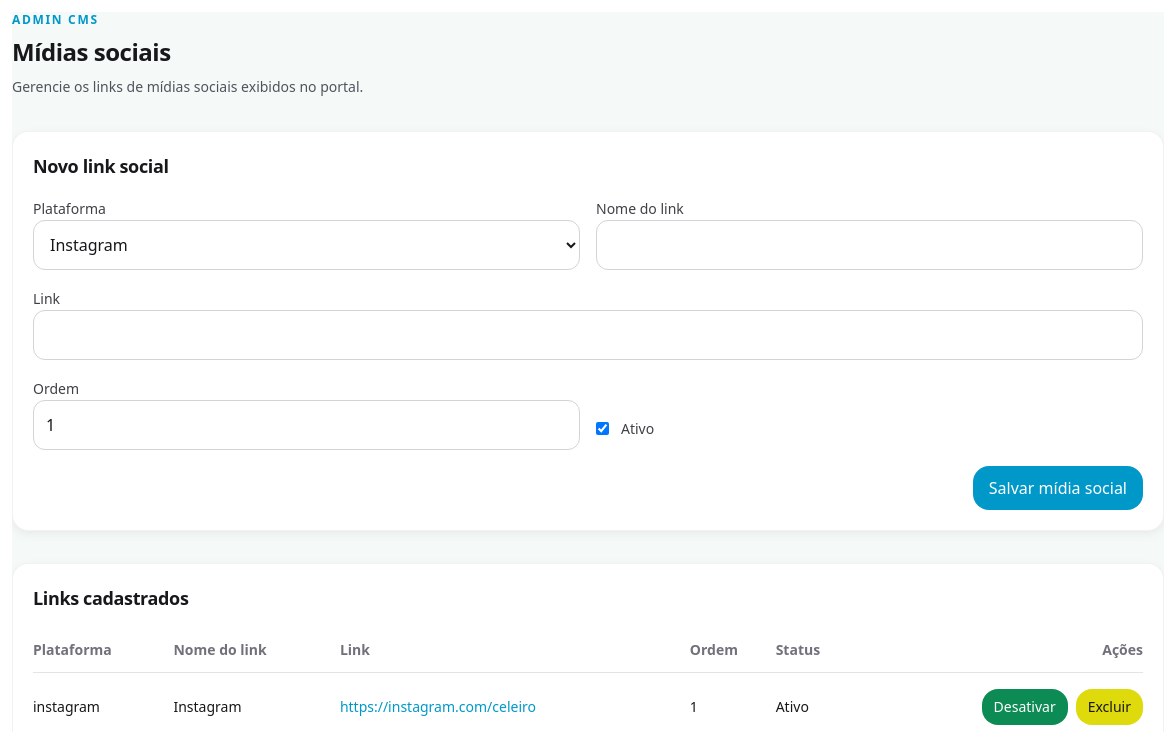
it: AdminSocialLinksPage › deve excluir item com sucesso
The image size is (1164, 732).
Click the button "Excluir" at (1109, 707), box [1076,689,1143,725]
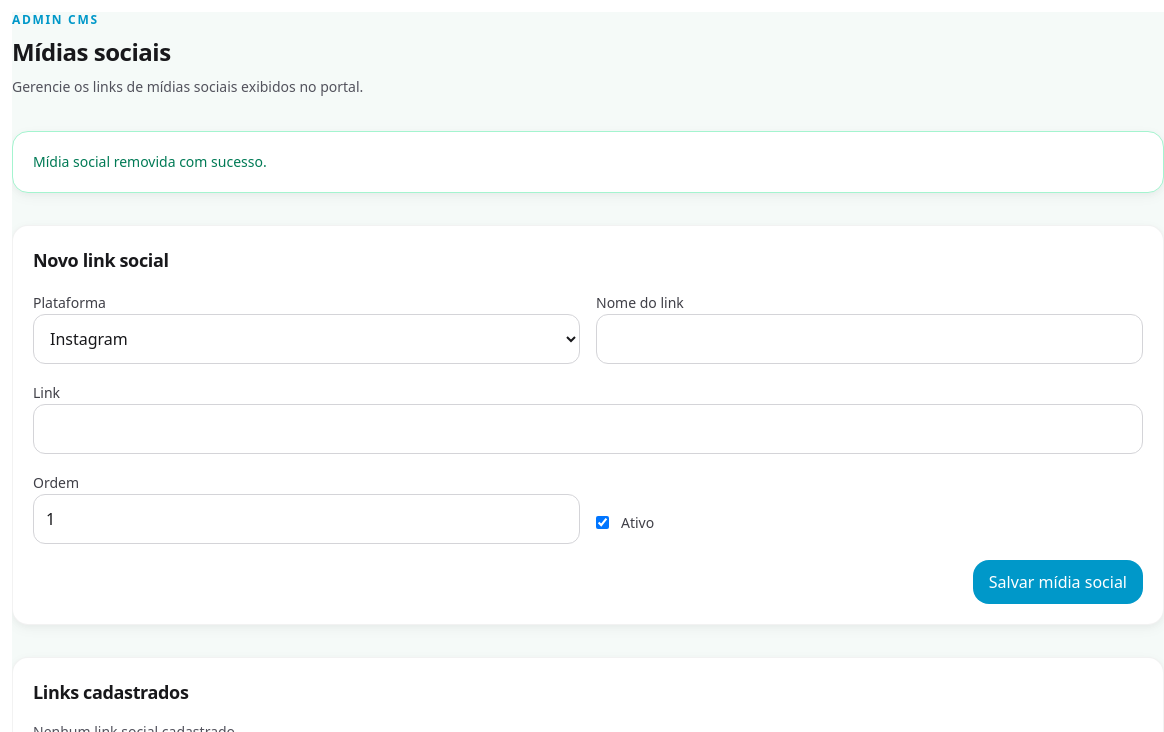
Check: the text "Mídia social removida com sucesso." is shown, box [33,152,267,171]
Check: the link "https://instagram.com/celeiro" is gone
